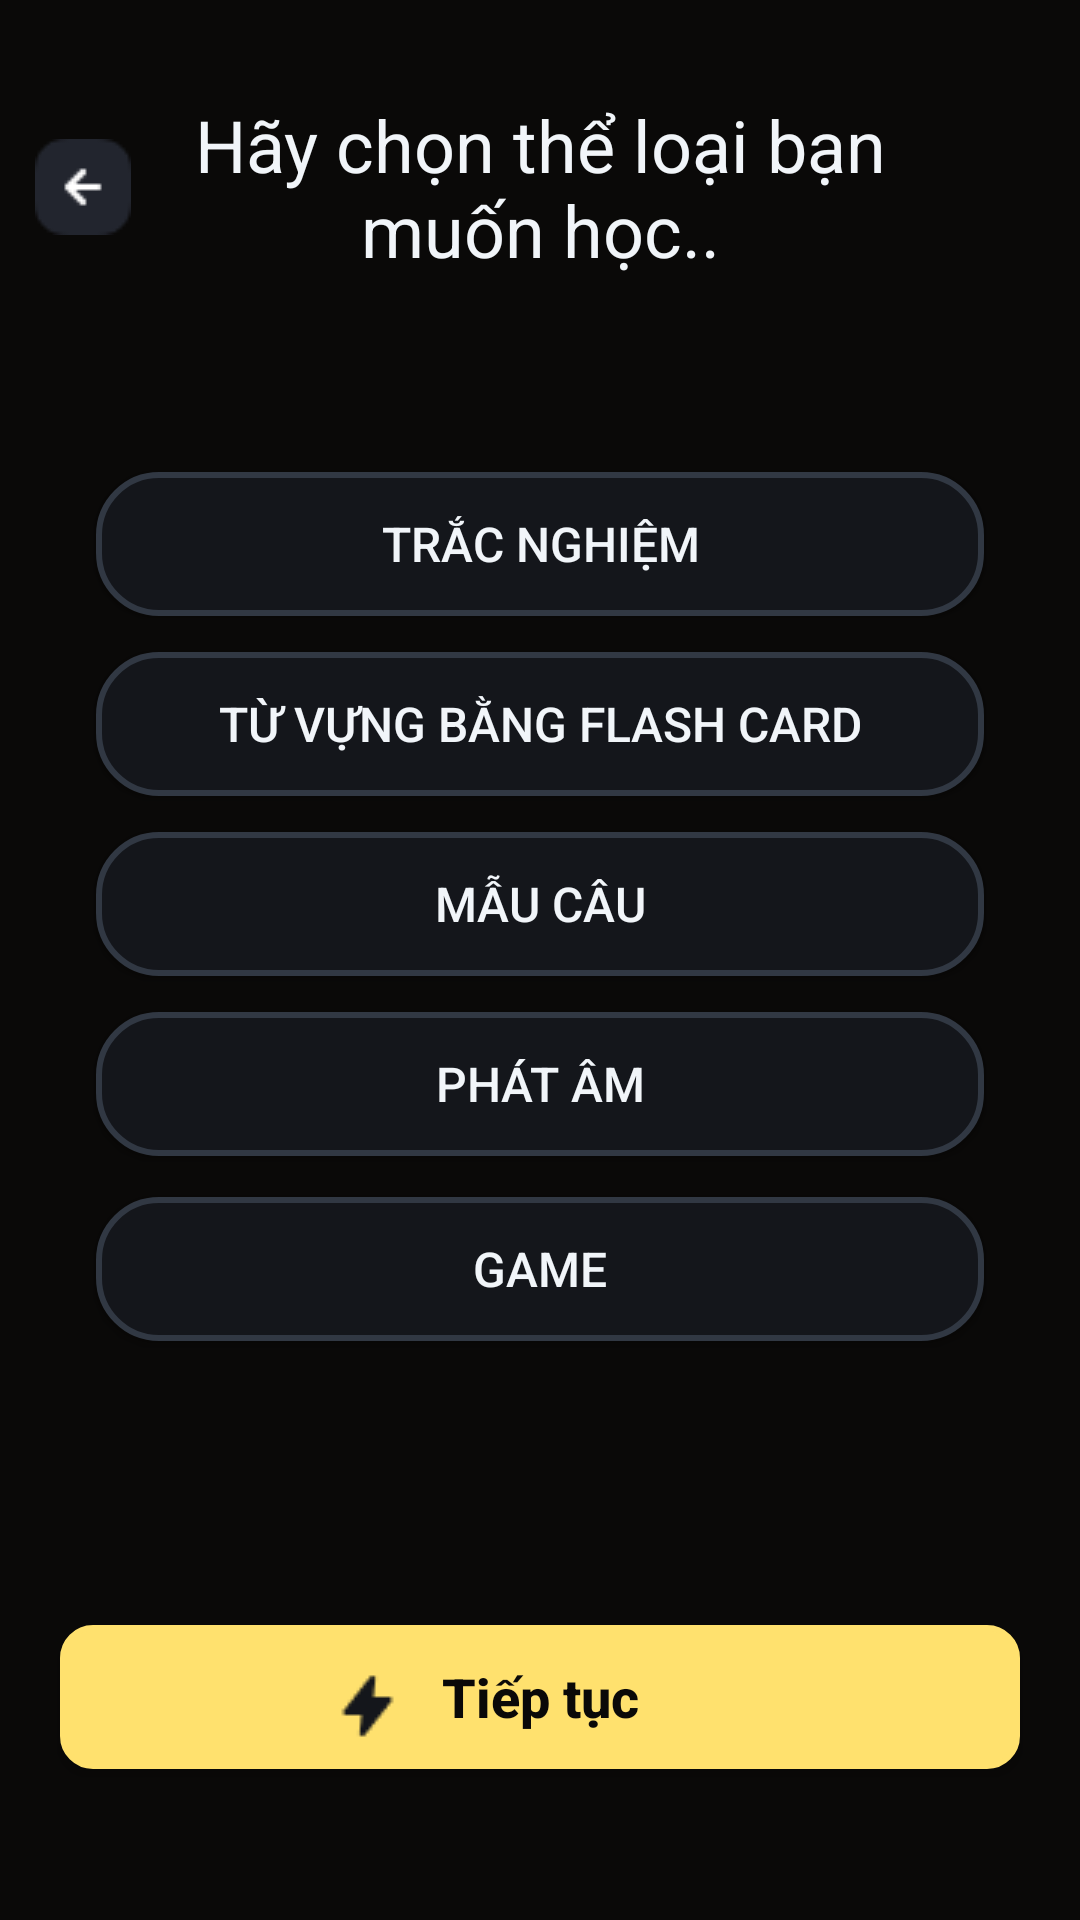

Screen size 1080 × 1920. Icon name, then its box in pixels as BBox(x1, y1, x2, y2):
btnexit: BBox(35, 139, 131, 235)
